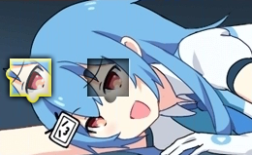gap: (83, 58, 129, 97)
